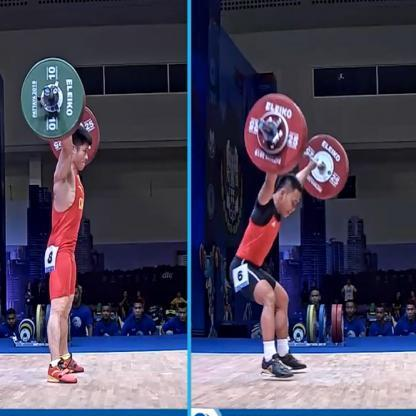barbell: (243, 93, 350, 199), (21, 58, 100, 165)
